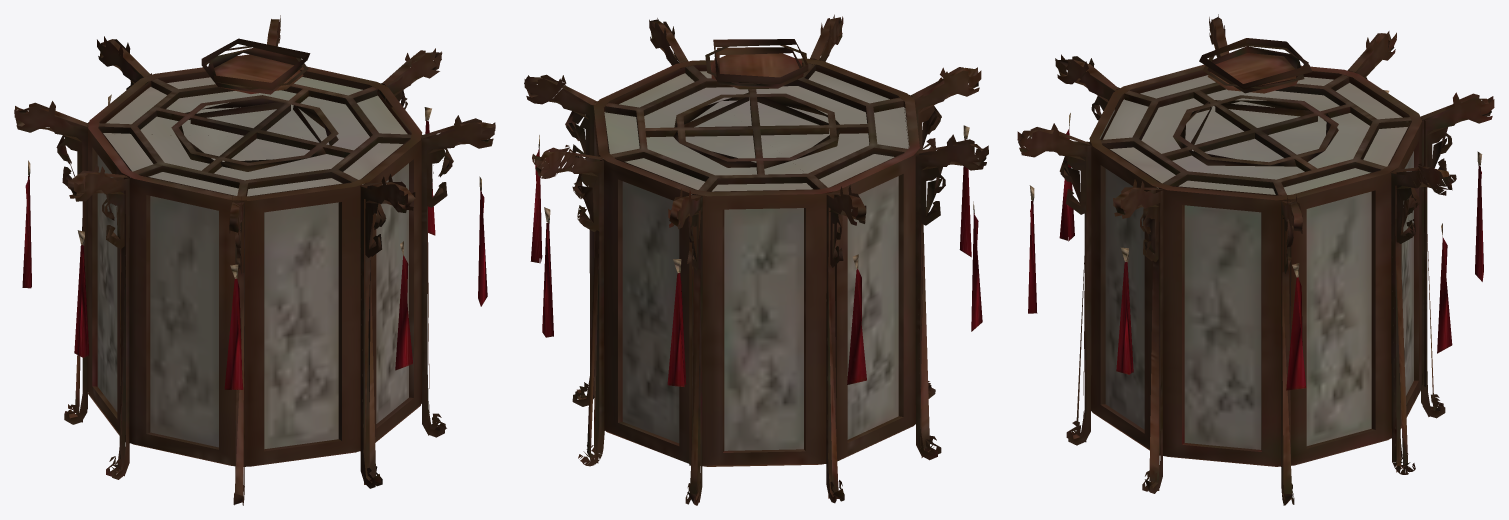
File: ph_chinese_chandelier.glb
The picture shows the model from 3 angles, left to right: view 1: azimuth 30°, elevation 25°; view 2: azimuth 150°, elevation 25°; view 3: azimuth 270°, elevation 25°; orthographic projection.
Parts seen in each view (by area): view 1: chinese_chandelier; view 2: chinese_chandelier; view 3: chinese_chandelier.
Boxes of the visible parts, x1,y1,x2,y2 form: chinese_chandelier: (14,15,495,505); chinese_chandelier: (524,14,988,505); chinese_chandelier: (1017,14,1494,505).
Size of the model in its own units: 0.8785 by 0.7491 by 0.8763.
1 material, 1 textured.
